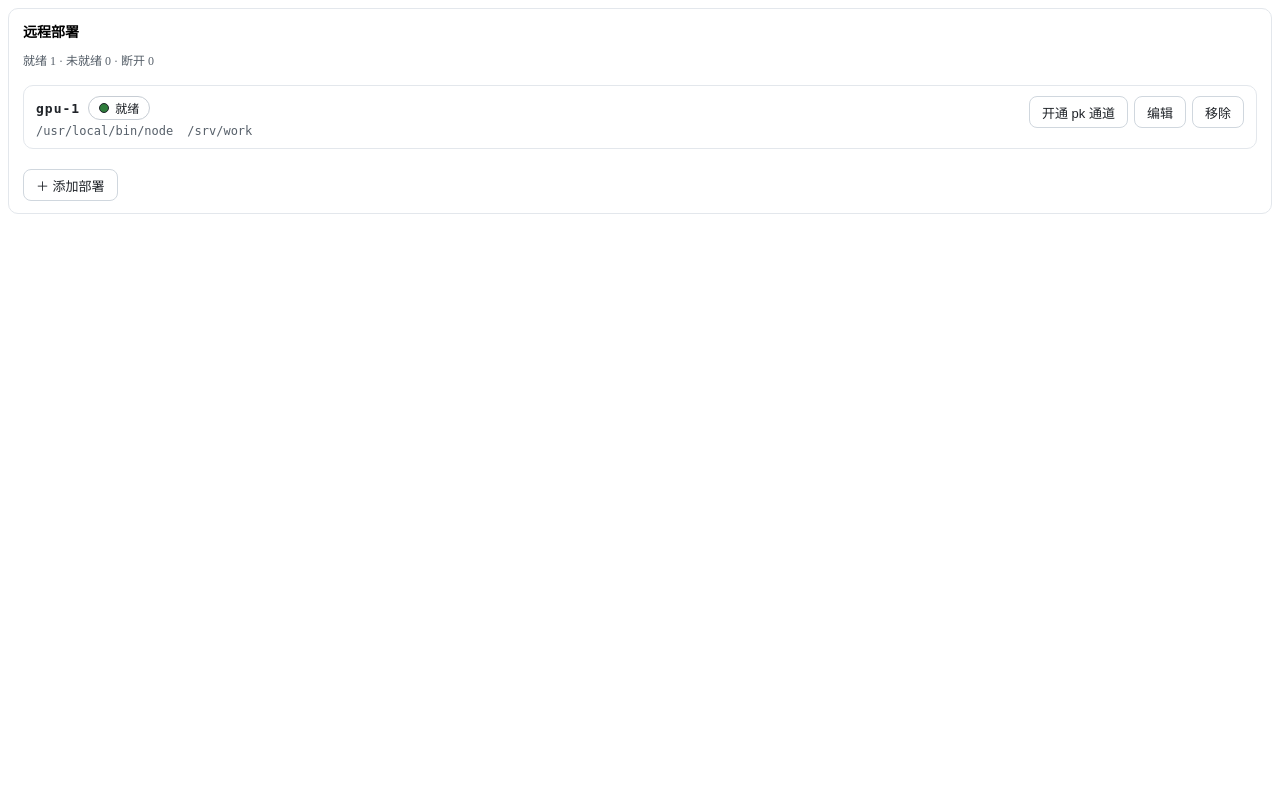
Test: pk 通道开通（ADR-0003） › RPC 失败 → Modal alert 呈现错误信封
Click the button with test id "deploy-setup-pk".
click(1078, 112)  # box [1029, 96, 1128, 128]
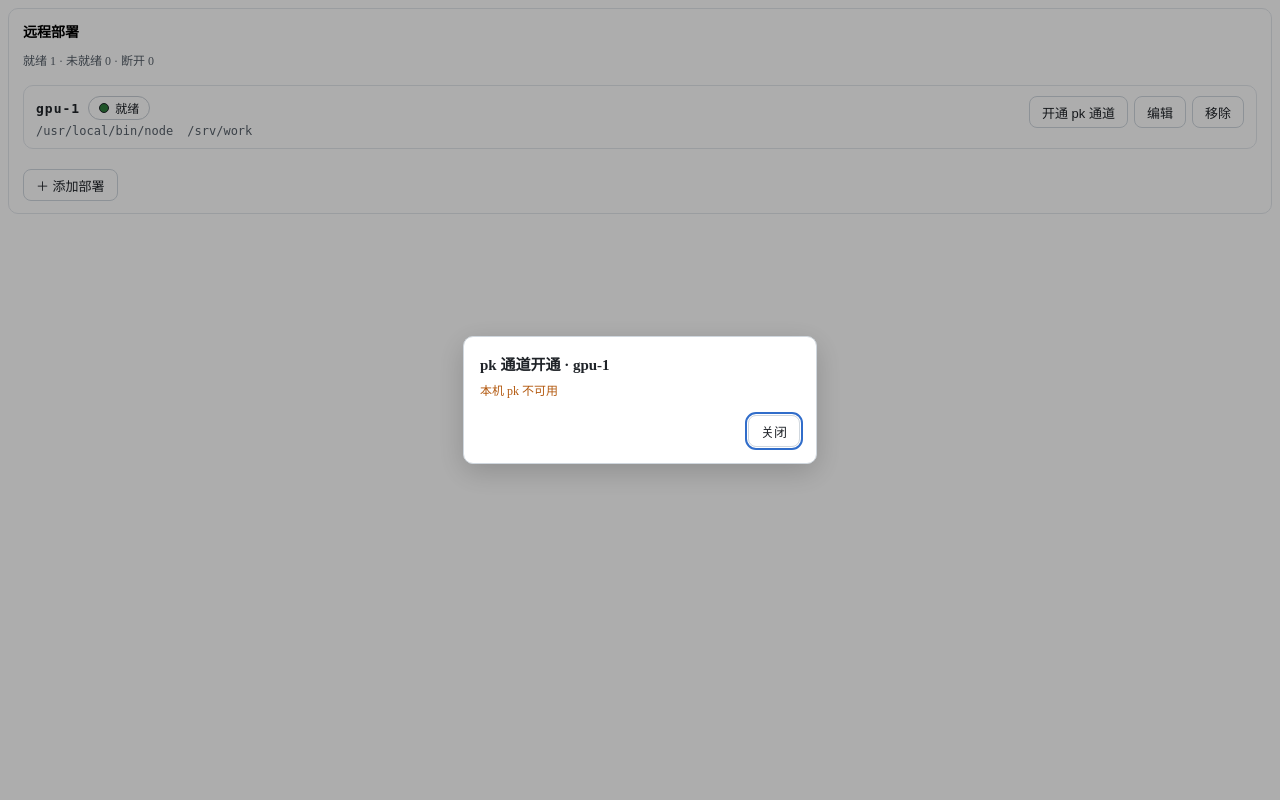
Check: the message with test id "deploy-pk-report-error" reads "本机 pk 不可用", box [480, 384, 558, 398]
